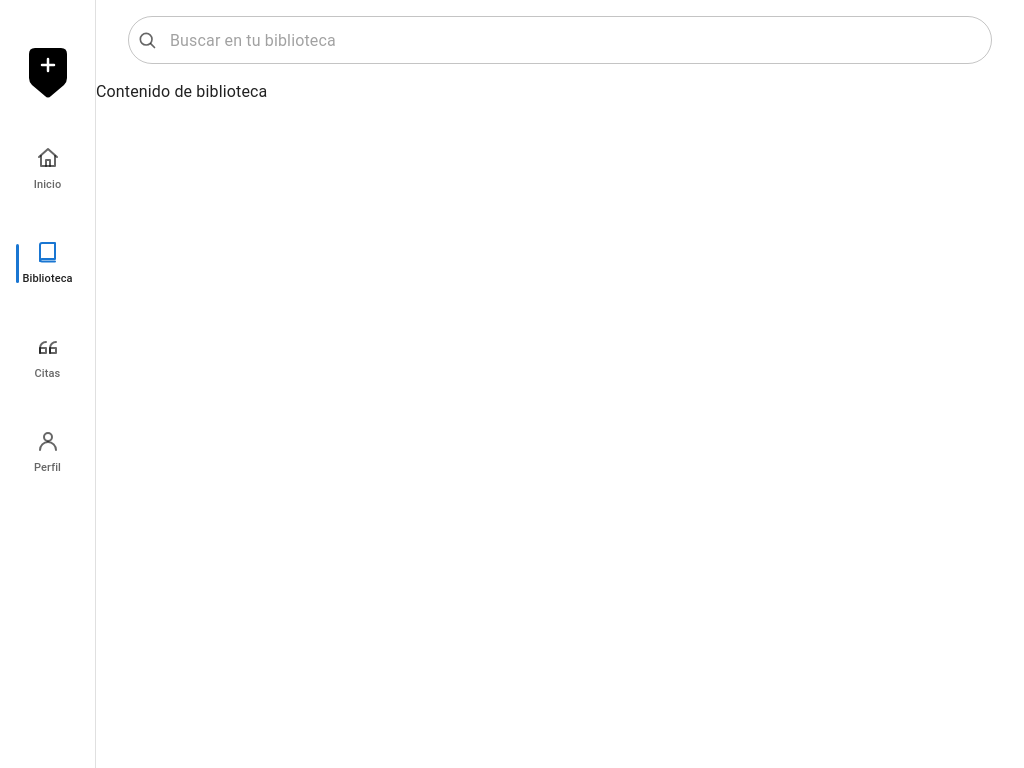
Scenario: Given the add book flow › When the user taps the bookmark button › Then the dialog opens and closing it leaves the screen as it was
Click the button named "Añadir libro" at (48, 73), box [4, 48, 90, 98]
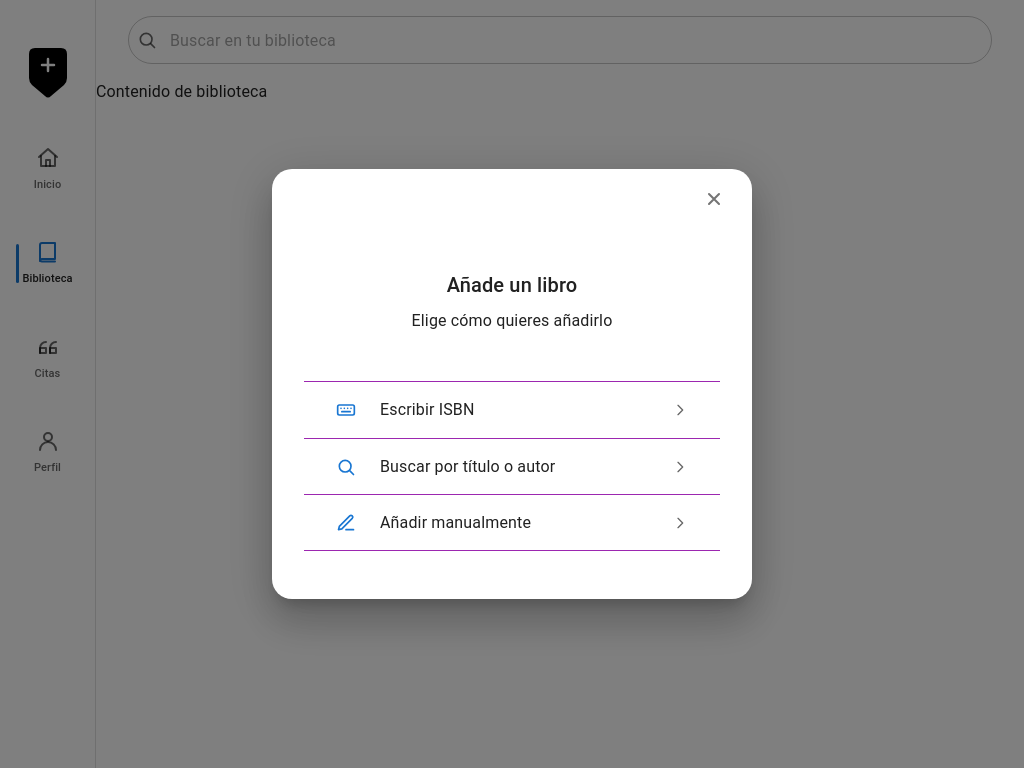
Expected: the dialog "Añade un libro" is shown, [272, 169, 752, 599]
Click the button named "Cerrar" at (714, 199), box [692, 177, 736, 221]
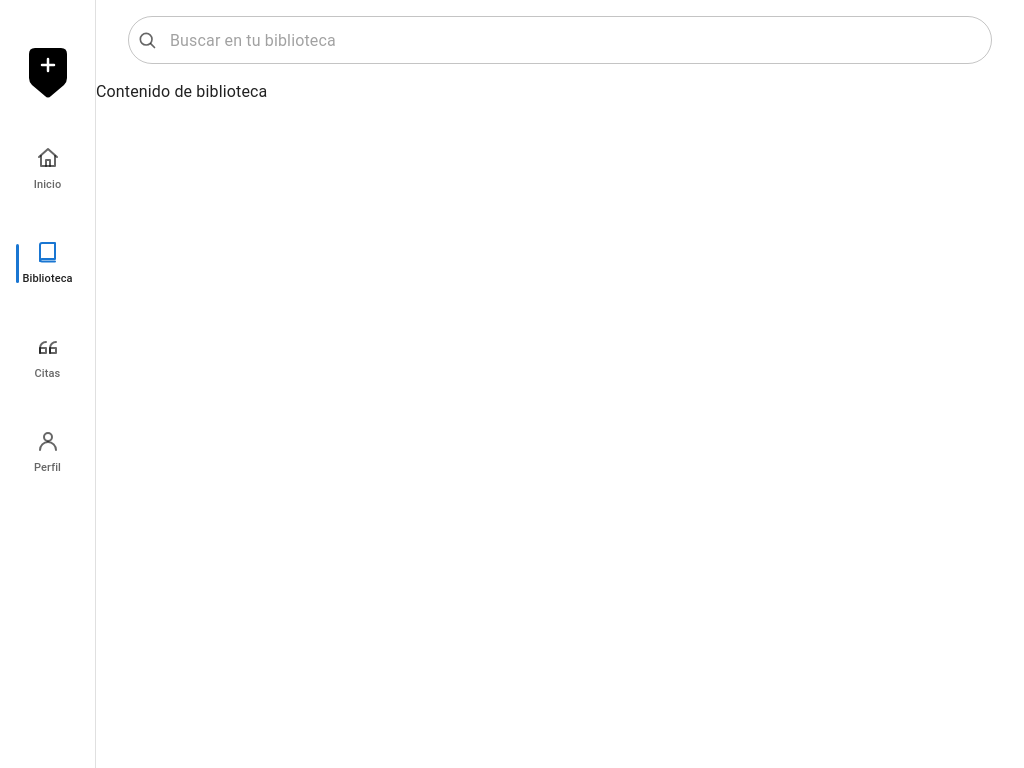
Expected: the dialog is gone
